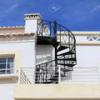stairs: (41, 60, 77, 82)
